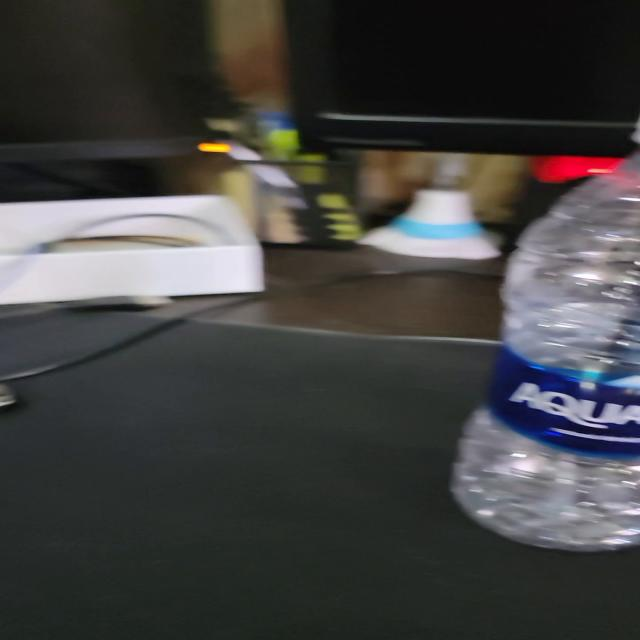Anorganik: (446, 115, 640, 556)
